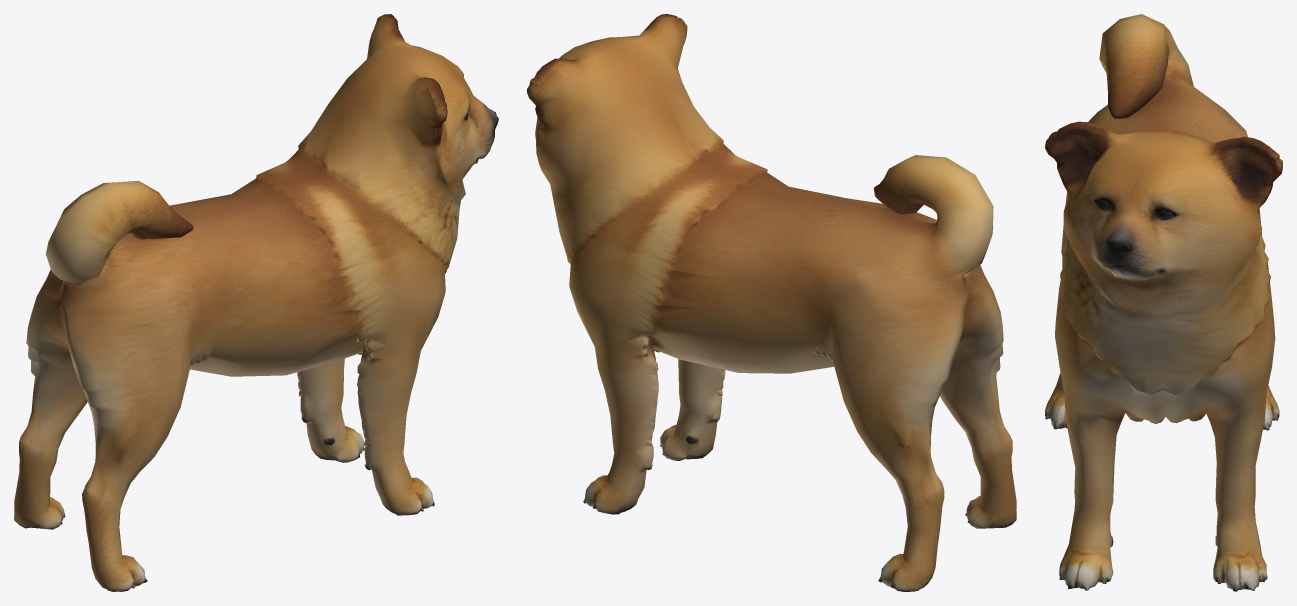
Rendered from golden-dog-standing.glb.
3 renders of one model, left to right at view 1: azimuth 30°, elevation 25°; view 2: azimuth 150°, elevation 25°; view 3: azimuth 270°, elevation 25°, orthographic. The views are drawn at different scales.
Visible parts, largest first — view 1: Golden Ochre Fluffy Guardian; view 2: Golden Ochre Fluffy Guardian; view 3: Golden Ochre Fluffy Guardian.
Part boxes in pixels (x1,y1,x2,y2): Golden Ochre Fluffy Guardian: (14,14,498,591); Golden Ochre Fluffy Guardian: (527,14,1016,591); Golden Ochre Fluffy Guardian: (1045,14,1282,591).
Size of the model in its own units: 0.998 by 0.9395 by 0.4277.
Materials: 1 (1 with a texture image).
